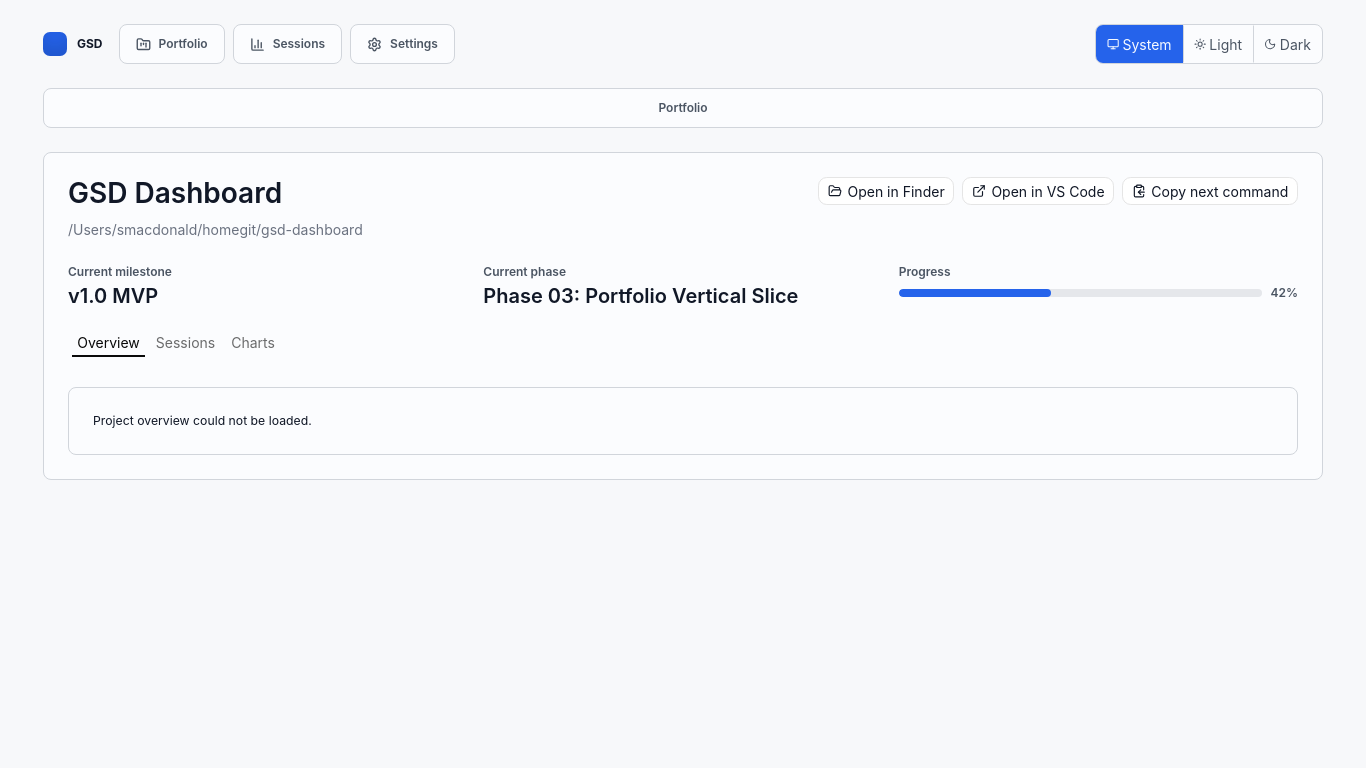
Scenario: portfolio vertical slice › detail_opener_failure_renders_inline_error
Click the button "Open in Finder": (886, 191) x1=818 y1=177 x2=954 y2=205
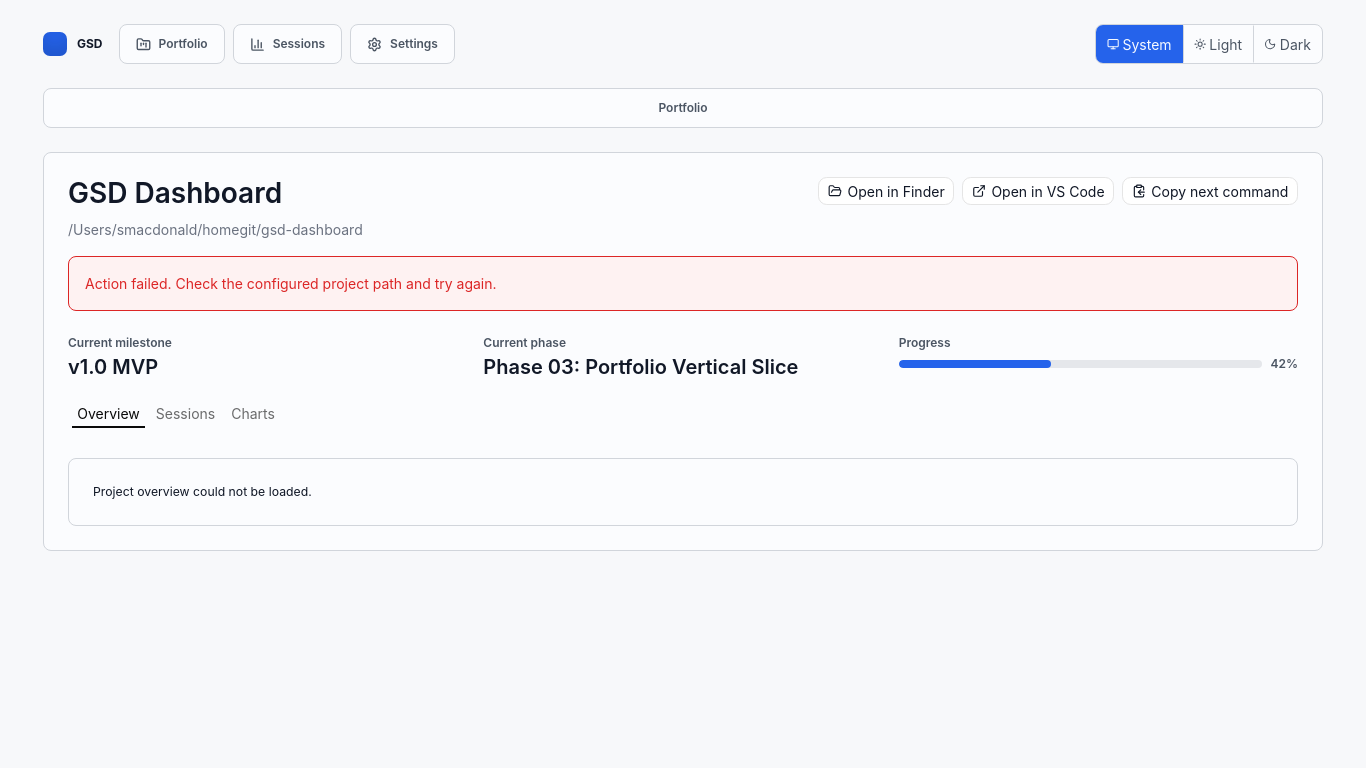
Expected: the text "Action failed. Check the configured project path and try again." is shown, x1=85 y1=275 x2=497 y2=292
